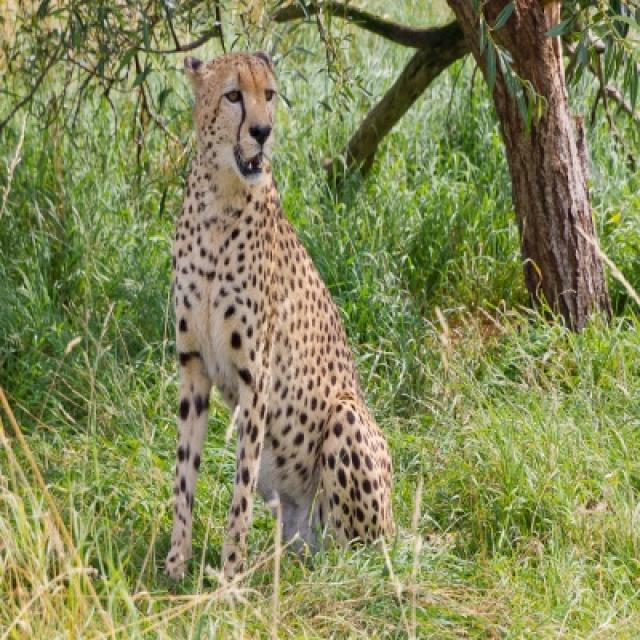Cheetah: (163, 54, 397, 584)
